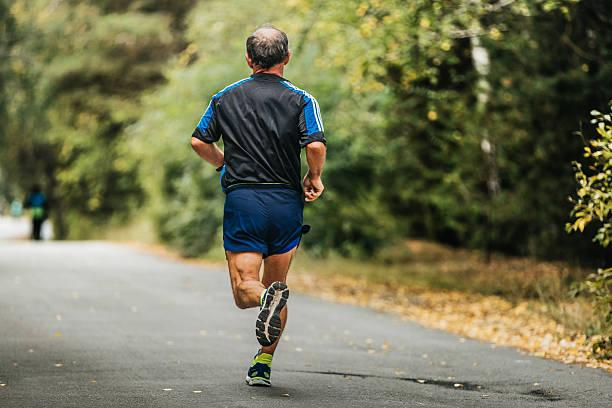Human: (190, 24, 351, 404)
